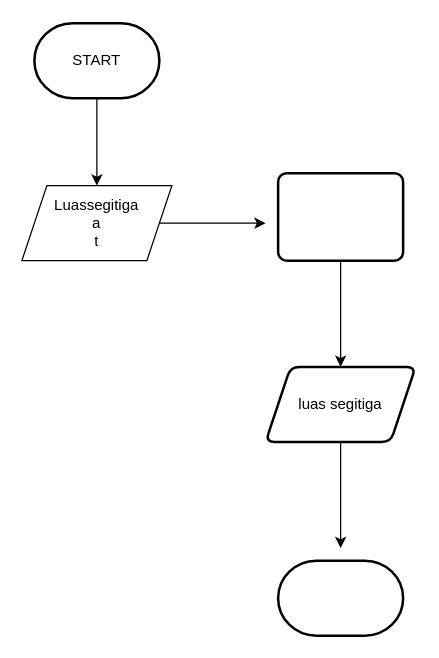
Some shapes in this 439 by 658 pixel diagram are drawn without their labels. The shapes that lost their labels are listed below. From the top down, each one's centre as x and y in pixels, then its label:
At (340,216): "Luas Segitiga = 1/2*a*t".
At (340,597): "End".
